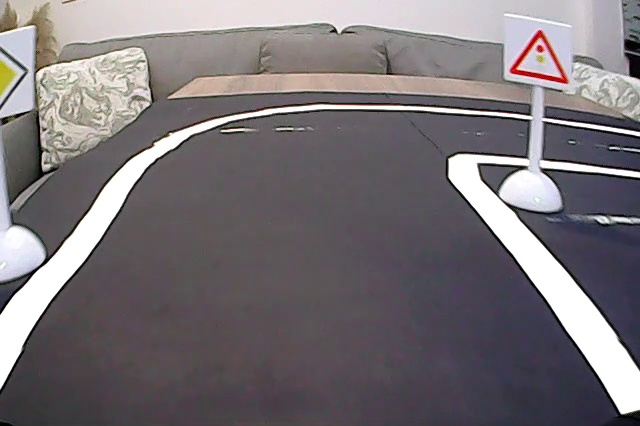red light: (506, 16, 574, 91)
